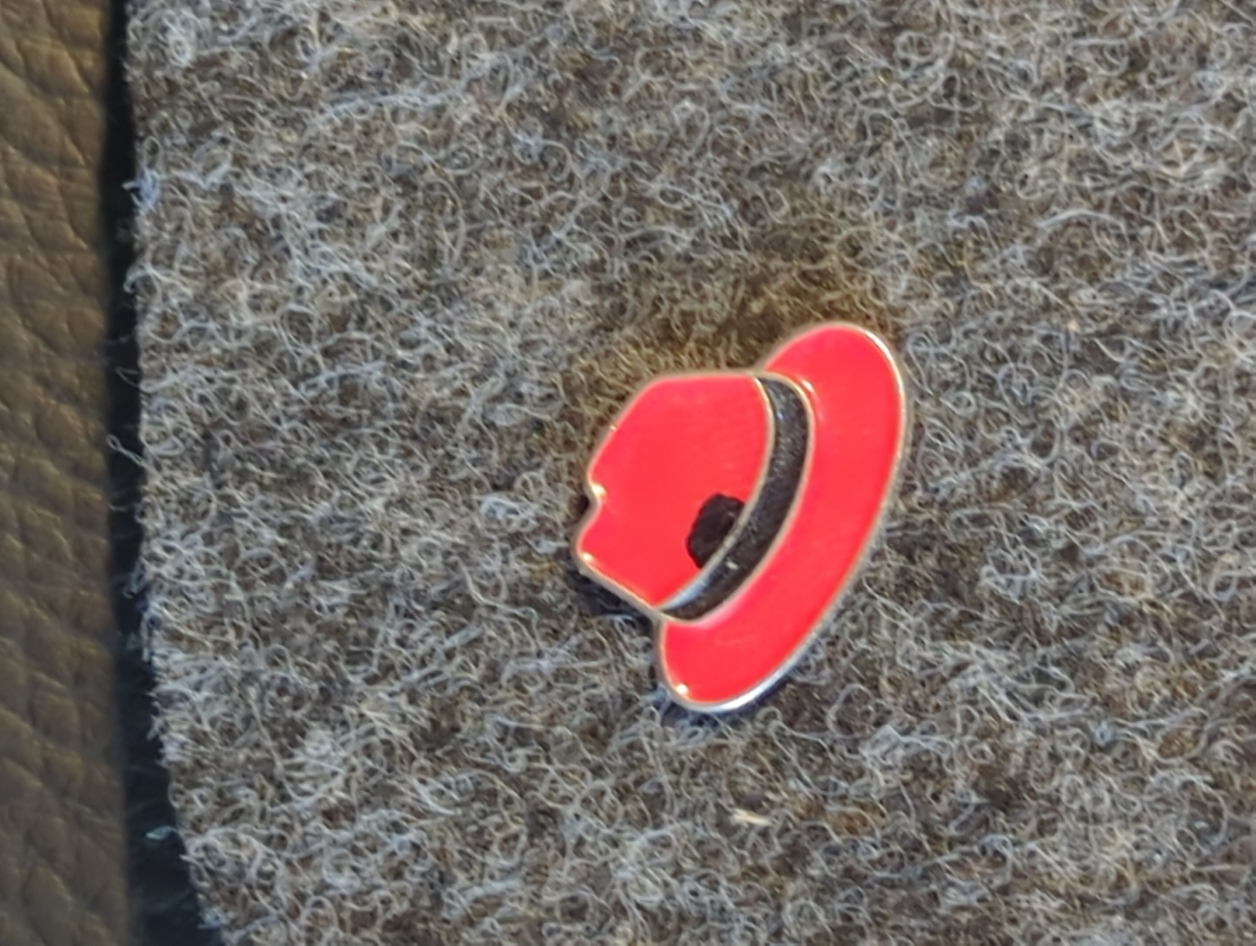Red-Hat: (522, 250, 1033, 785)
Scratch: (655, 439, 787, 598)
